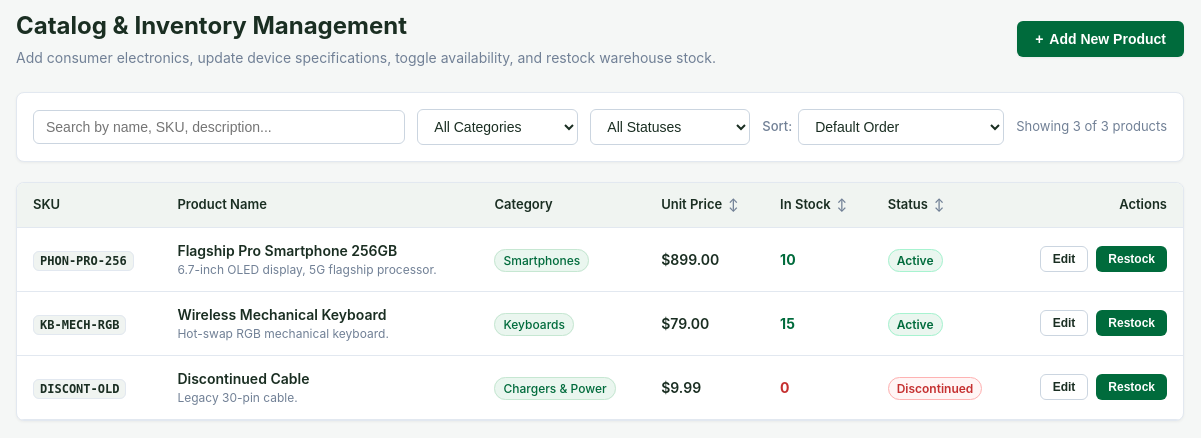
Scenario: Feature 6: Product Catalog Management Component (F-06) › filters products by search query and category
Check: the text "Flagship Pro Smartphone 256GB" is shown, box x1=177 y1=242 x2=397 y2=259
# Search for "Keyboard"
Type "Keyboard" into the field with test id "mgmt-search-input" at (219, 127), box x1=33 y1=110 x2=405 y2=144
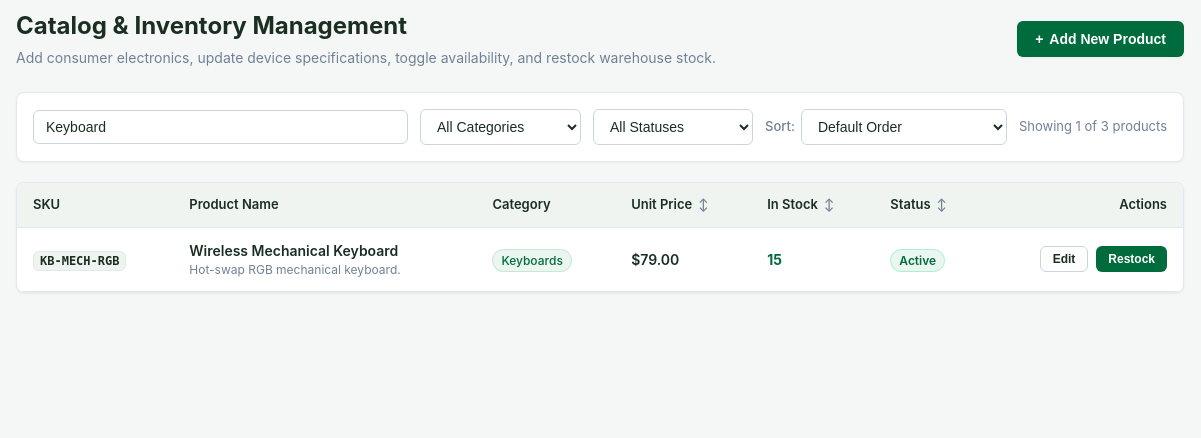
Check: the text "Wireless Mechanical Keyboard" is shown, box x1=189 y1=242 x2=398 y2=259
Check: the text "Flagship Pro Smartphone 256GB" is gone
Check: the text "Showing 1 of 3 products" is shown, box x1=1019 y1=117 x2=1167 y2=137
# Reset search
Clear the field with test id "mgmt-search-input" at (220, 127), box x1=33 y1=110 x2=408 y2=144
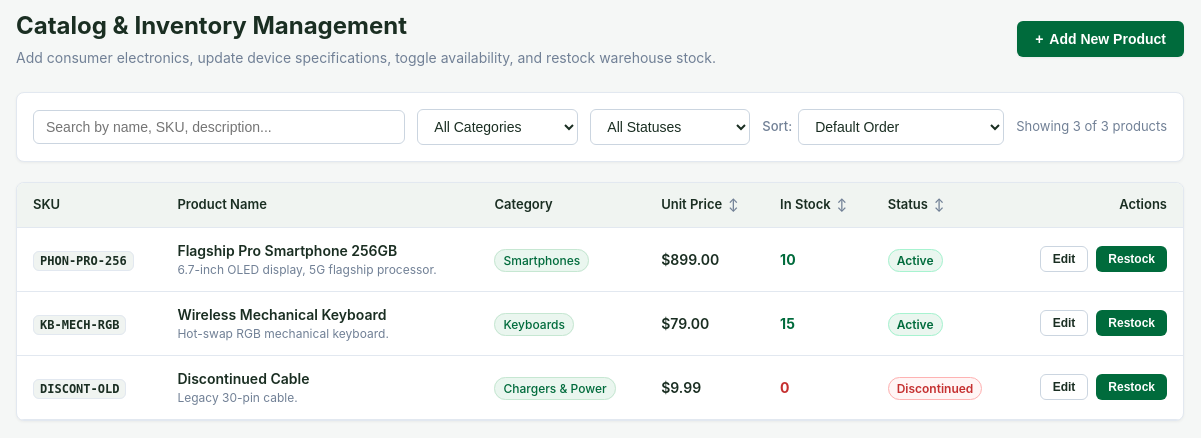
Check: the text "Flagship Pro Smartphone 256GB" is shown, box x1=177 y1=242 x2=397 y2=259
# Filter by Active Only status
Select "Active Only" in the dropdown with test id "mgmt-status-filter" at (670, 127), box x1=590 y1=109 x2=750 y2=145
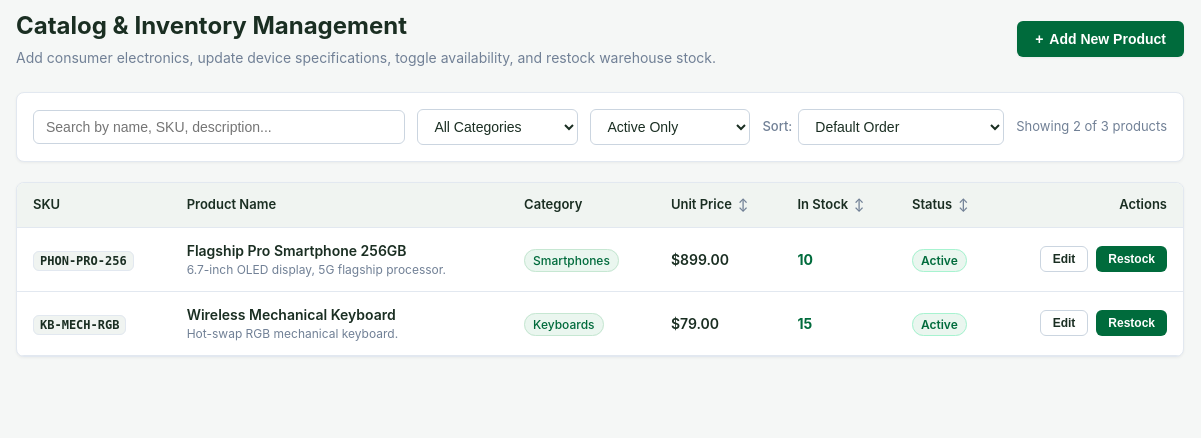
Check: the text "Discontinued Cable" is gone
Check: the text "Showing 2 of 3 products" is shown, box x1=1016 y1=117 x2=1167 y2=137
